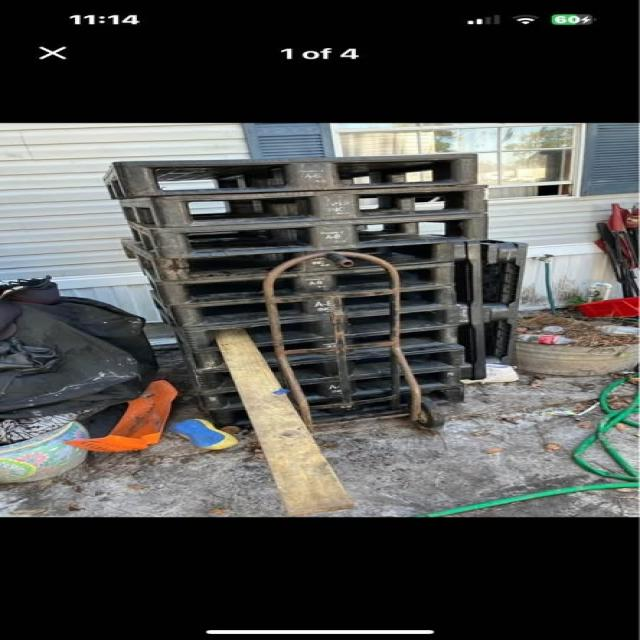non-igps: (96, 149, 491, 204), (111, 232, 462, 289), (120, 210, 498, 262), (112, 182, 498, 232), (172, 300, 467, 358), (148, 260, 464, 314), (165, 280, 465, 334), (185, 341, 470, 397), (183, 324, 472, 377), (186, 366, 470, 416), (198, 382, 470, 432), (480, 236, 542, 367), (447, 236, 491, 384)
